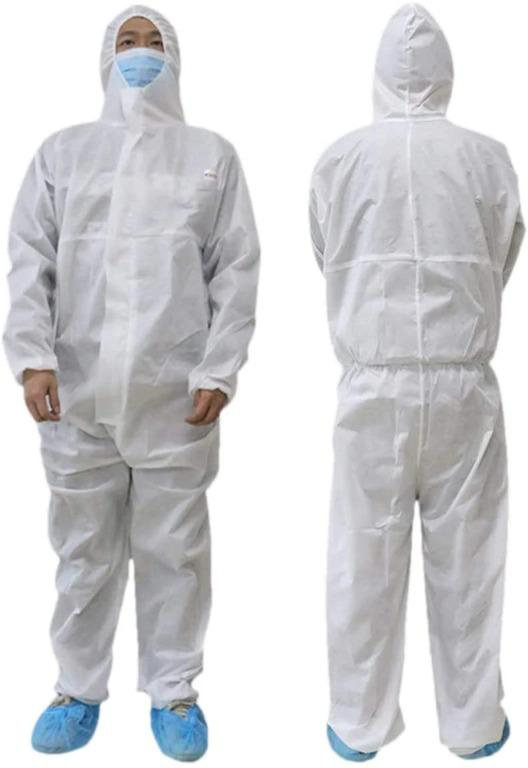Coverall: (6, 3, 261, 723), (311, 2, 518, 768)
Mask: (114, 35, 167, 93)
